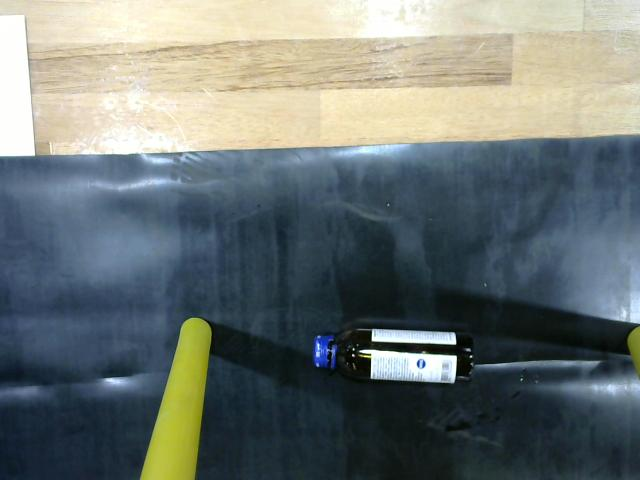glass: (307, 324, 474, 385)
